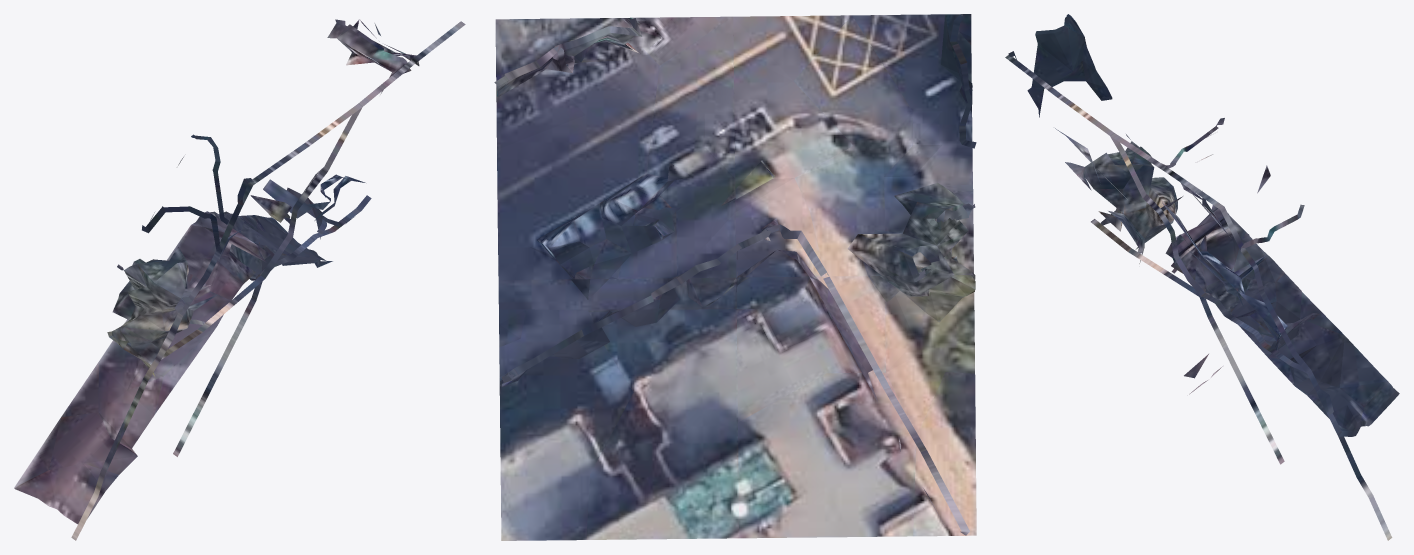
3 renders of one model, left to right at view 1: azimuth 30°, elevation 25°; view 2: azimuth 150°, elevation 25°; view 3: azimuth 270°, elevation 25°, orthographic. The views are drawn at different scales.
Size of the model in its own units: 40.58 by 37.42 by 32.82.
1 material, 1 textured.
